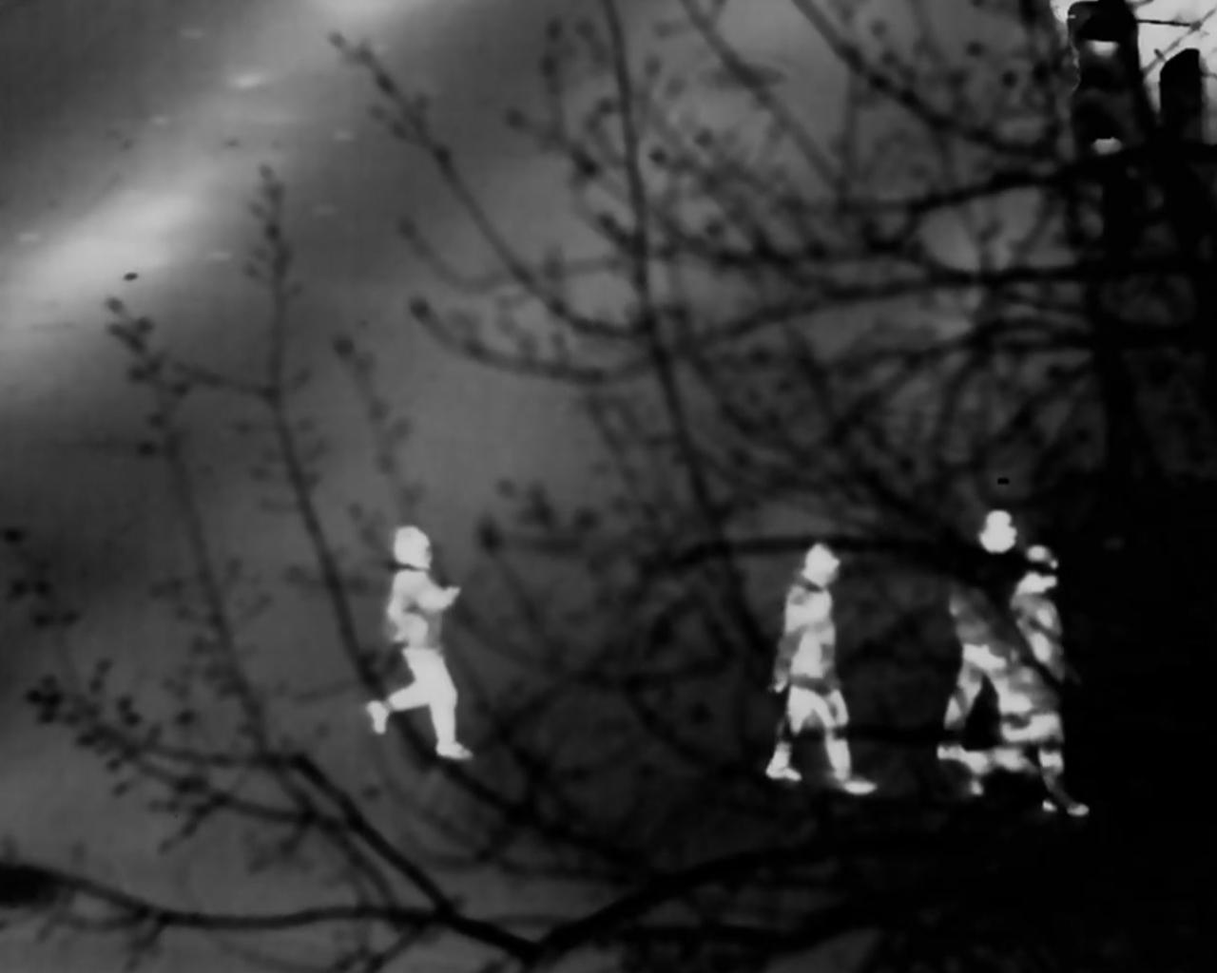person: (930, 508, 1058, 783), (773, 527, 847, 809), (996, 542, 1069, 761), (384, 524, 460, 730)
